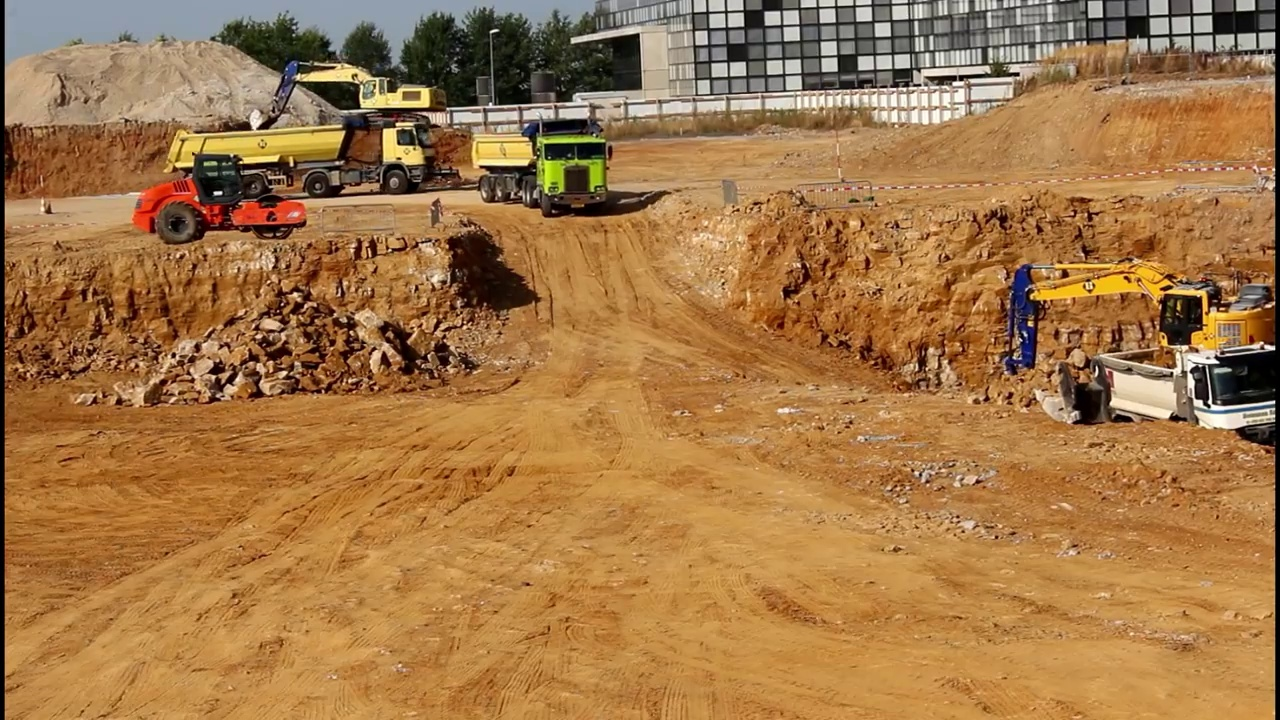compactor: (131, 152, 306, 243)
excavator: (984, 257, 1280, 414), (246, 55, 451, 137)
truck: (1089, 337, 1280, 469), (162, 119, 440, 200), (471, 110, 616, 219)
